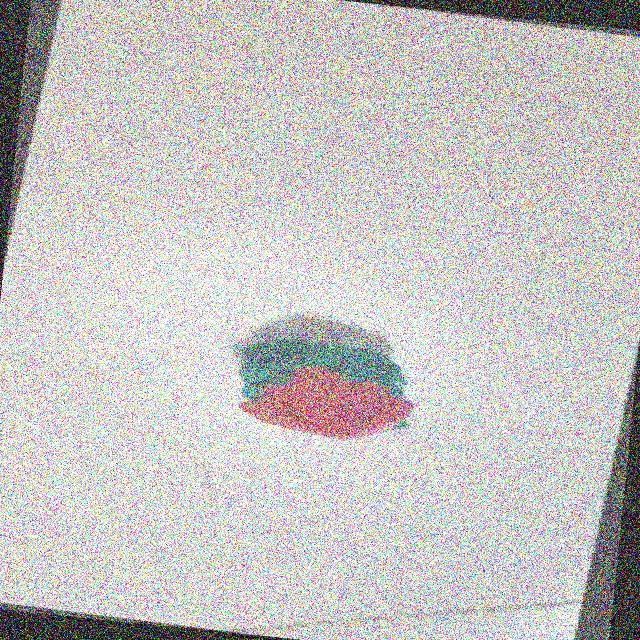House: (207, 323, 432, 456)
